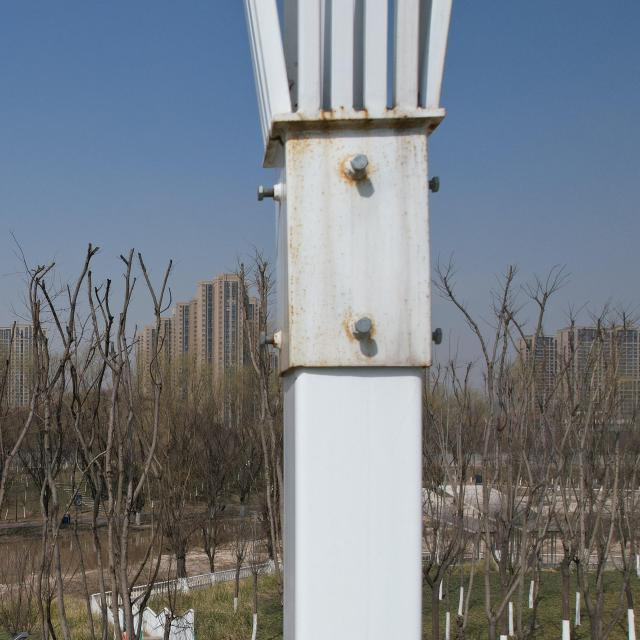bolt head: (349, 153, 369, 172), (354, 315, 373, 335)
bolt side: (258, 330, 268, 348), (434, 328, 444, 346), (256, 185, 266, 202), (431, 176, 440, 193)
